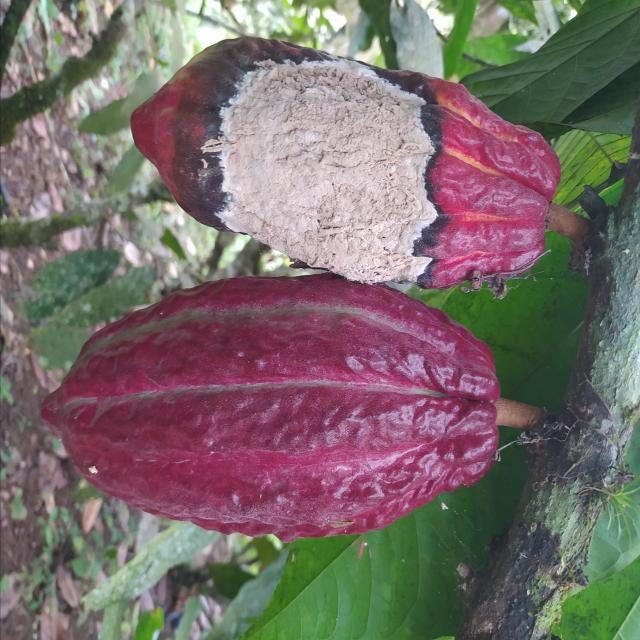Monilia: (131, 36, 562, 290)
Sana: (45, 273, 500, 543)
